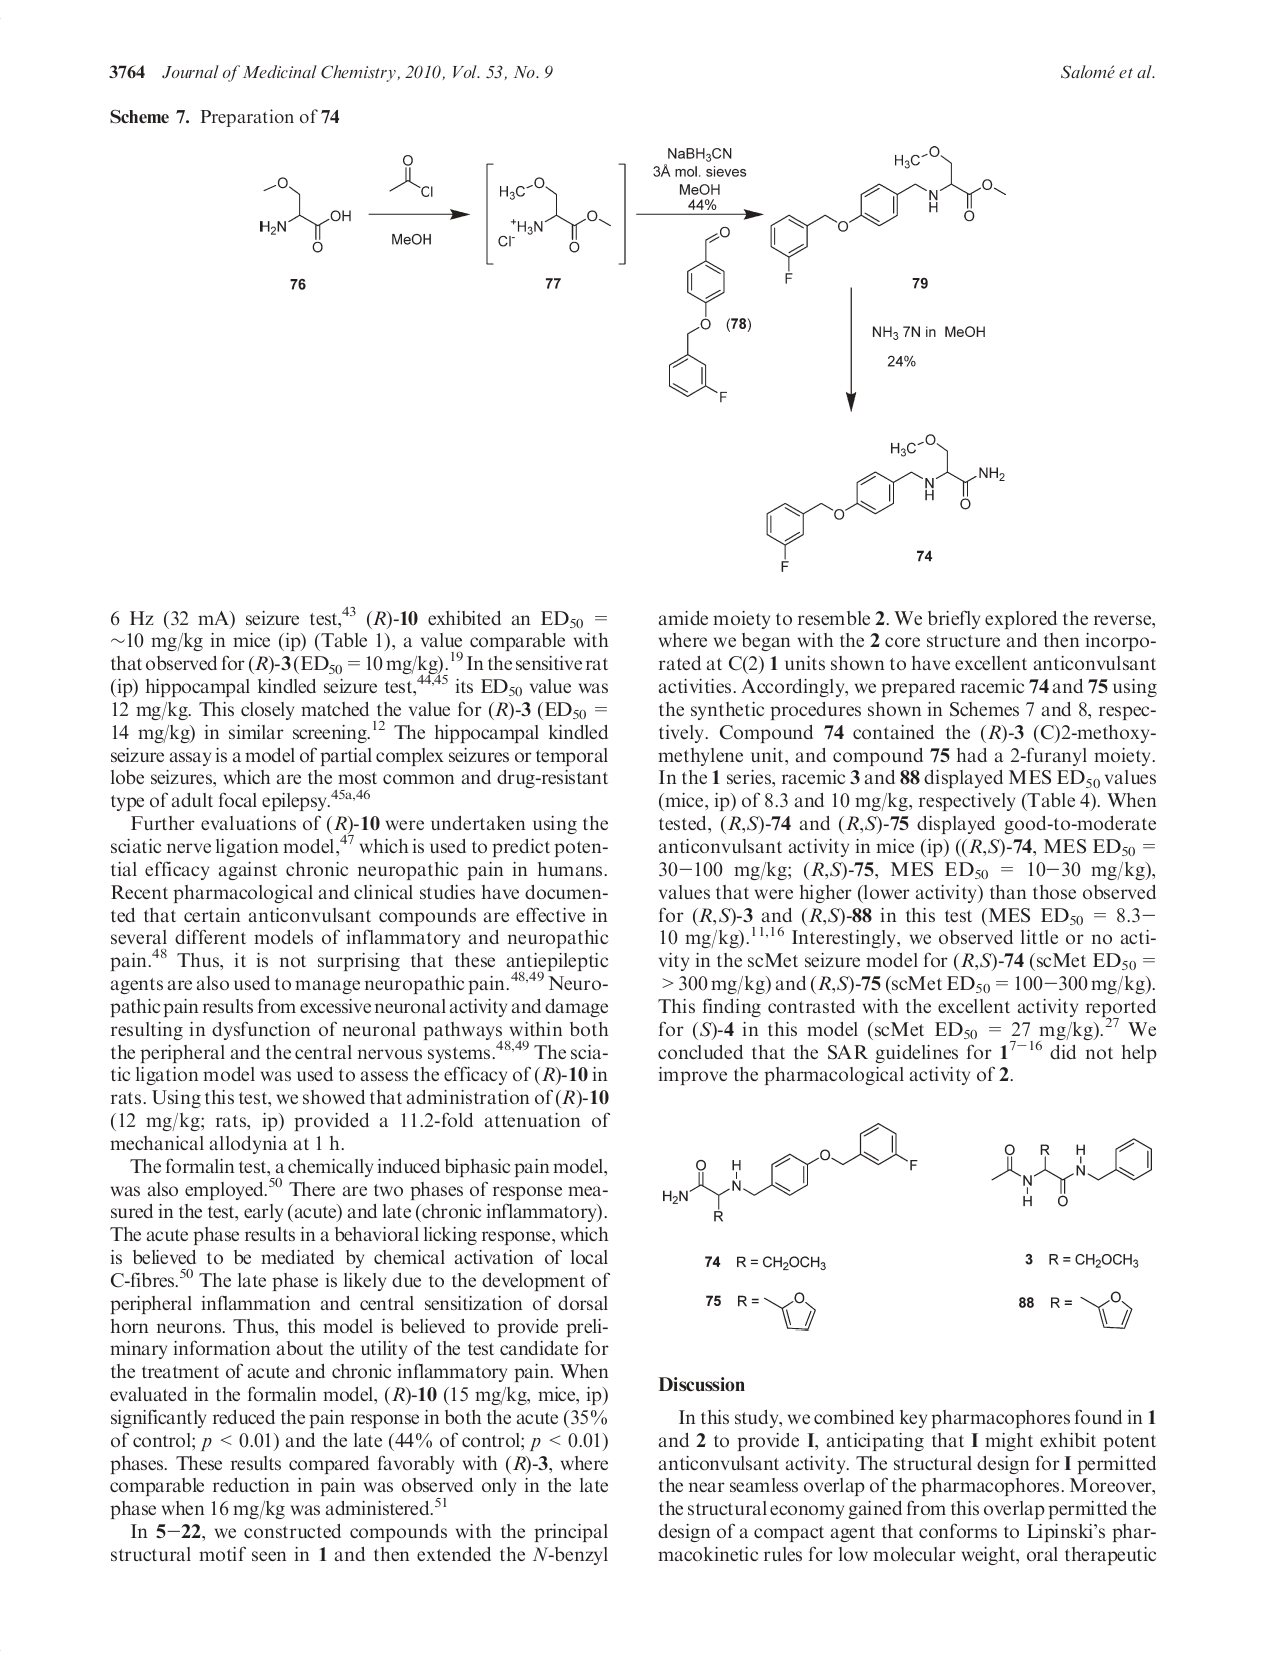exist_molecular: (757, 424, 1015, 573), (767, 140, 1009, 291), (660, 1112, 918, 1227), (983, 1122, 1160, 1209), (662, 223, 743, 403), (493, 165, 614, 258), (257, 173, 359, 254), (386, 152, 445, 205), (766, 1285, 824, 1333), (1080, 1287, 1136, 1331)
